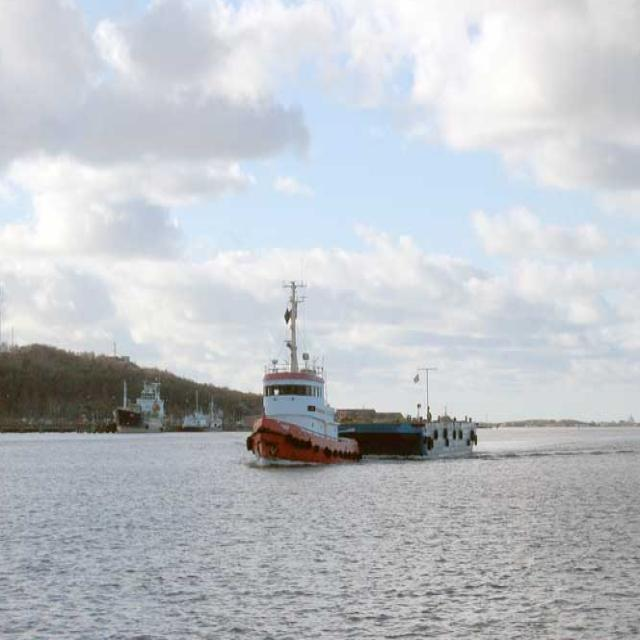passenger ship: (243, 273, 359, 466), (109, 364, 169, 432)
